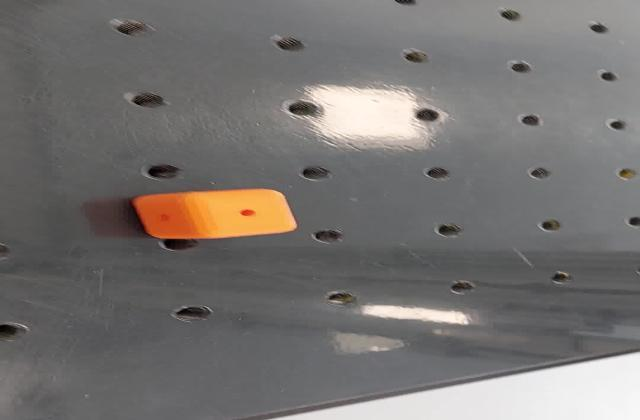cube: (126, 186, 304, 240)
